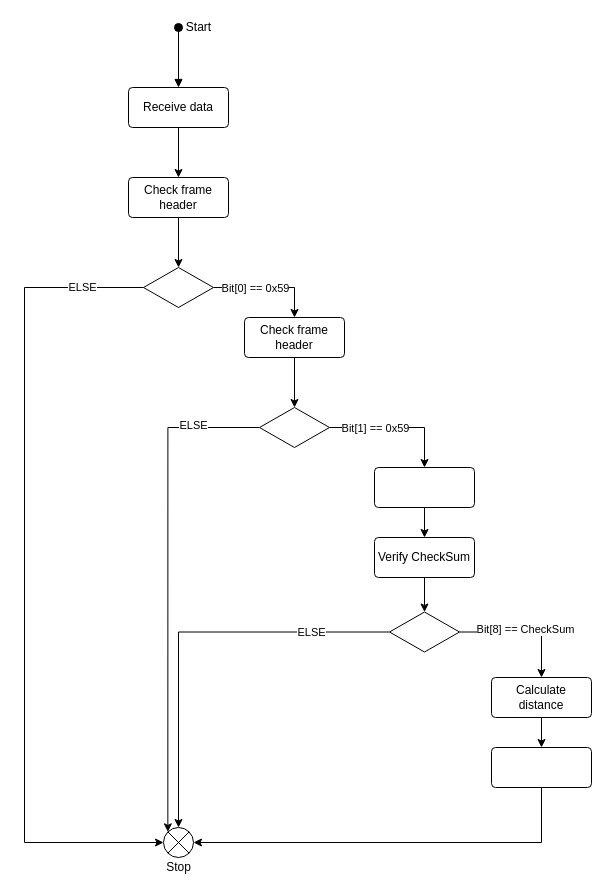
The diagram is 609 pixels wide and 895 high, and some of its shapes have lost their labels. The shapes that lost their labels are listed below. From the top down, each one's centre as x and y in pixels, then its label:
At (x=424, y=487): "Calculate CheckSum".
At (x=541, y=767): "Calculate strength".
